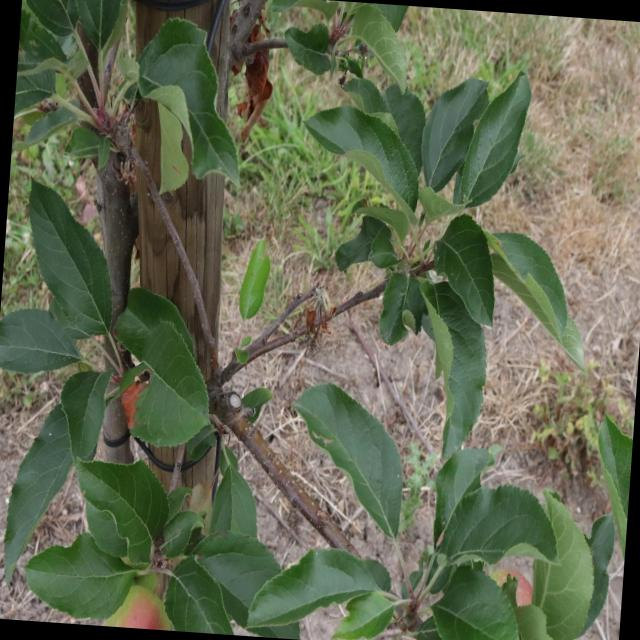-FireBlight-: (222, 2, 276, 144)
